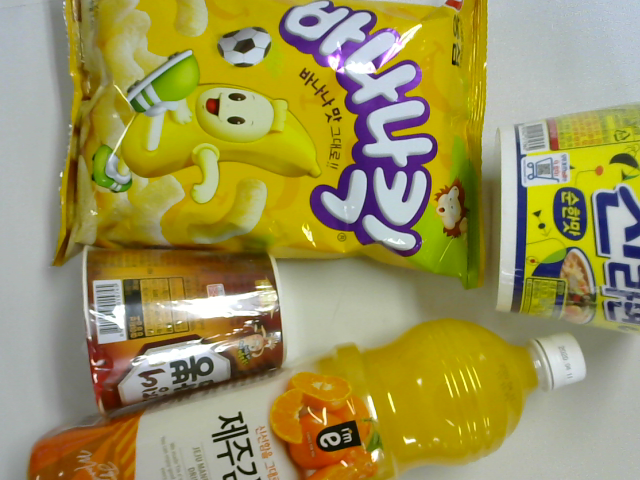Banana_Kick: (57, 4, 493, 290)
Jeju_Tangerine_1.5L: (25, 314, 577, 480)
Jinlamyeon_Mild_Taste_Large_Cup: (483, 100, 640, 338)
Ojjam: (71, 242, 295, 412)
